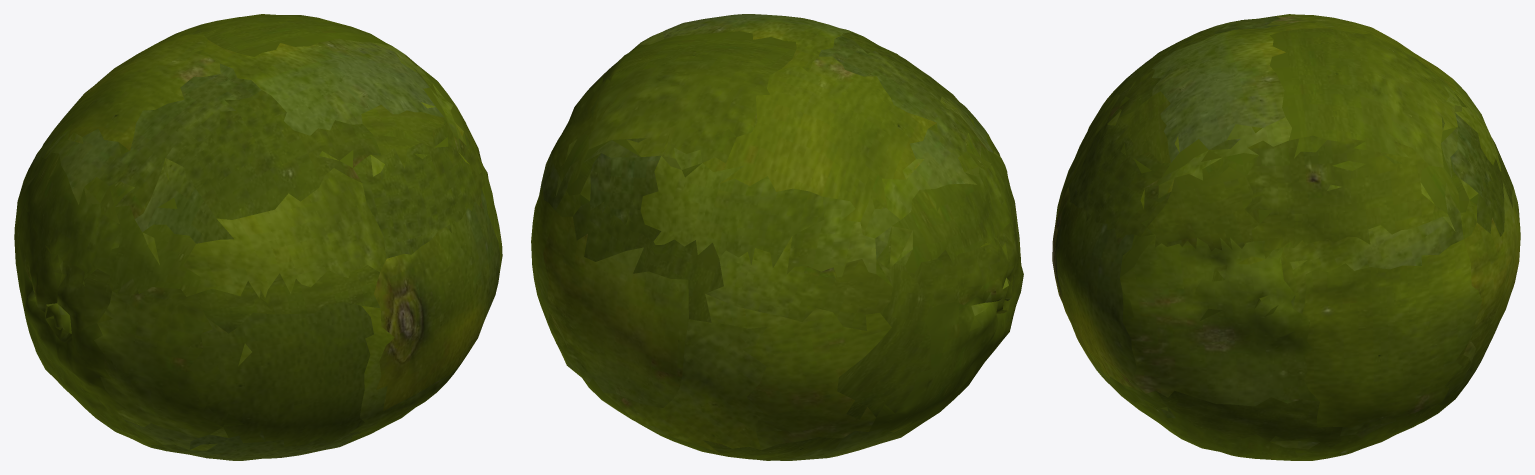
The picture shows the model from 3 angles, left to right: view 1: azimuth 30°, elevation 25°; view 2: azimuth 150°, elevation 25°; view 3: azimuth 270°, elevation 25°; orthographic projection.
Bounding box in the file's own units: 1 × 0.8687 × 0.9377.
